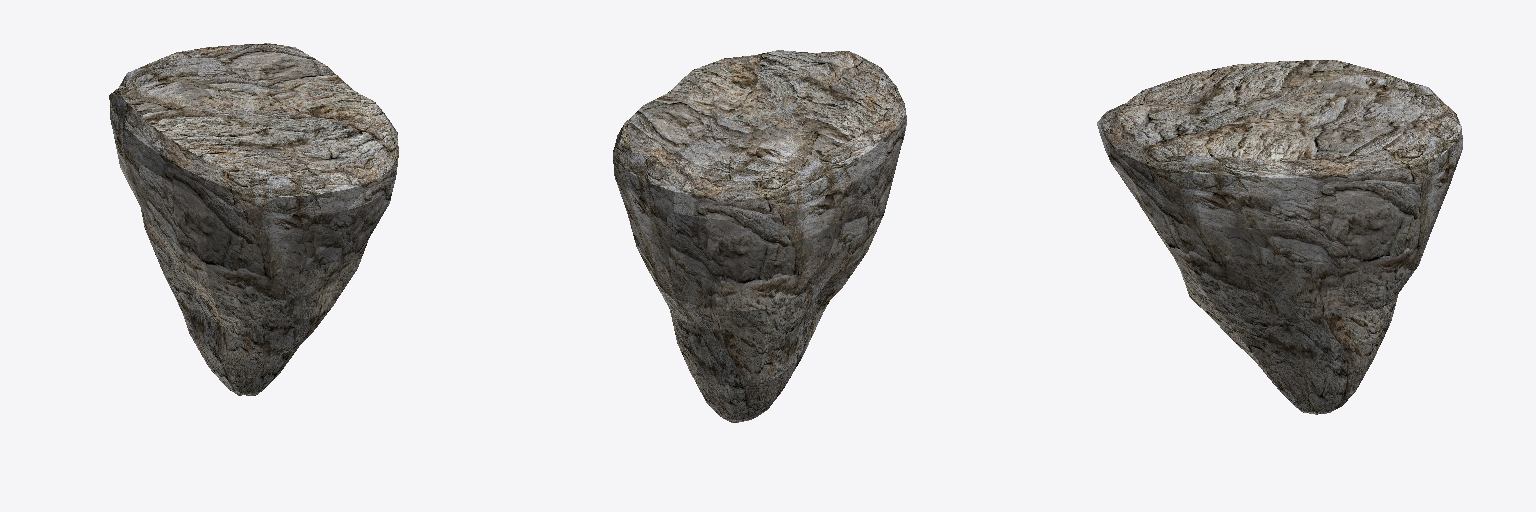
3 renders of one model, left to right at view 1: azimuth 30°, elevation 25°; view 2: azimuth 150°, elevation 25°; view 3: azimuth 270°, elevation 25°, orthographic.
Visible parts, largest first — view 1: IslandPart303; view 2: IslandPart303; view 3: IslandPart303.
Part boxes in pixels (bbox=[...]): IslandPart303: bbox=[109, 43, 398, 395]; IslandPart303: bbox=[613, 50, 906, 422]; IslandPart303: bbox=[1097, 60, 1462, 414].
Size of the model in its own units: 4.66 by 6.28 by 6.82.
1 materials, 1 textured.